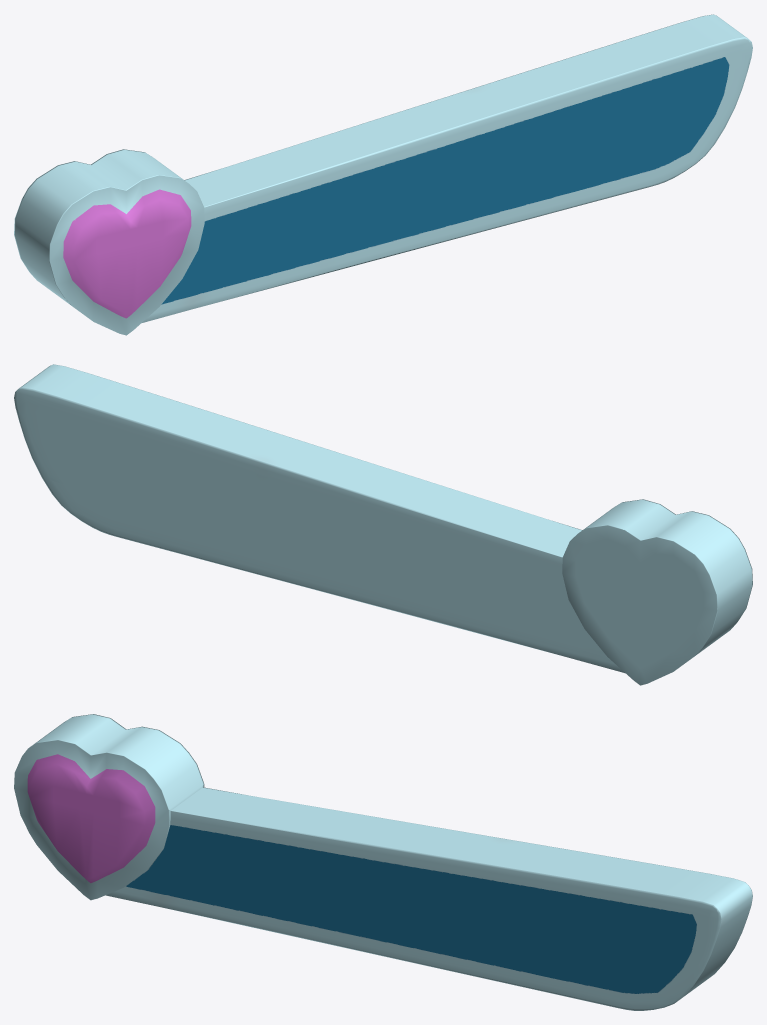
3 views of the same model, one above another, from view 1: azimuth 30°, elevation 25°; view 2: azimuth 150°, elevation 25°; view 3: azimuth 330°, elevation 25° (orthographic).
Parts seen in each view (by area): view 1: pCube5; view 2: pCube5; view 3: pCube5.
Boxes of the visible parts, x1=… form: pCube5: x1=14, y1=14, x2=752, y2=335; pCube5: x1=14, y1=364, x2=752, y2=685; pCube5: x1=14, y1=714, x2=752, y2=1010.
Bounding box in the file's own units: 12.59 × 2.6 × 1.24.
1 material, 1 textured.
